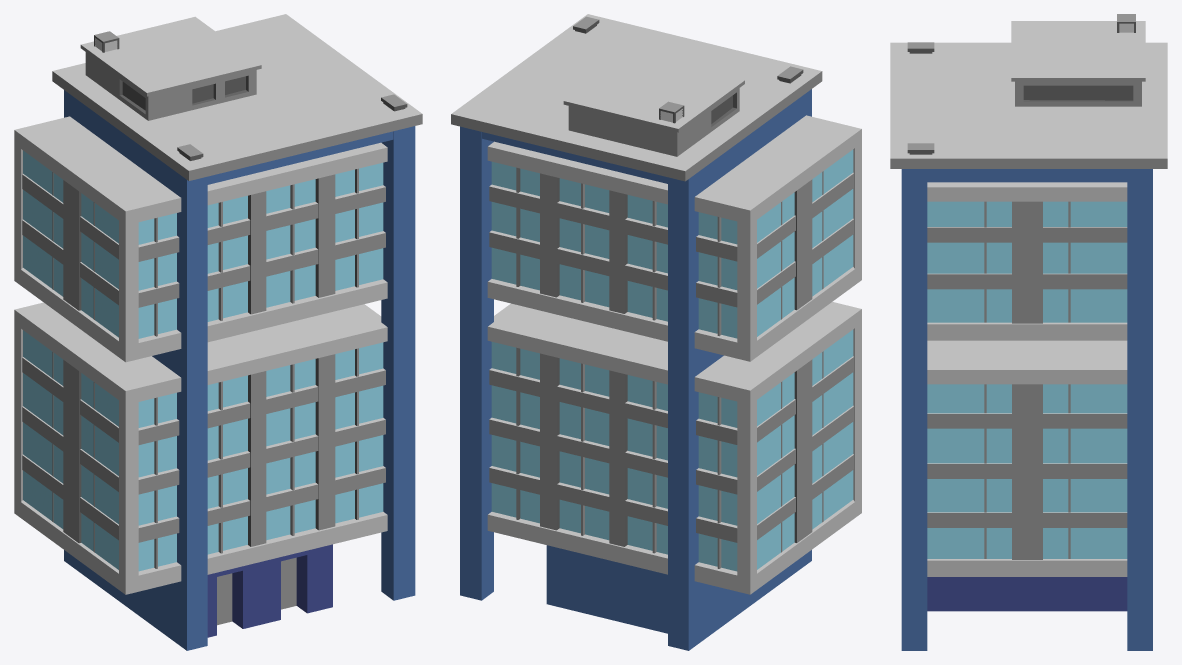
Rendered from Apartment_5.fbx.
The picture shows the model from 3 angles, left to right: view 1: azimuth 30°, elevation 25°; view 2: azimuth 150°, elevation 25°; view 3: azimuth 270°, elevation 25°; orthographic projection.
Visible parts, largest first — view 1: Apartment_5; view 2: Apartment_5; view 3: Apartment_5.
Part boxes in pixels (bbox=[...]): Apartment_5: bbox=[14, 14, 422, 650]; Apartment_5: bbox=[451, 14, 861, 650]; Apartment_5: bbox=[890, 14, 1167, 650].
Size of the model in its own units: 7.12 by 12.56 by 5.91.
